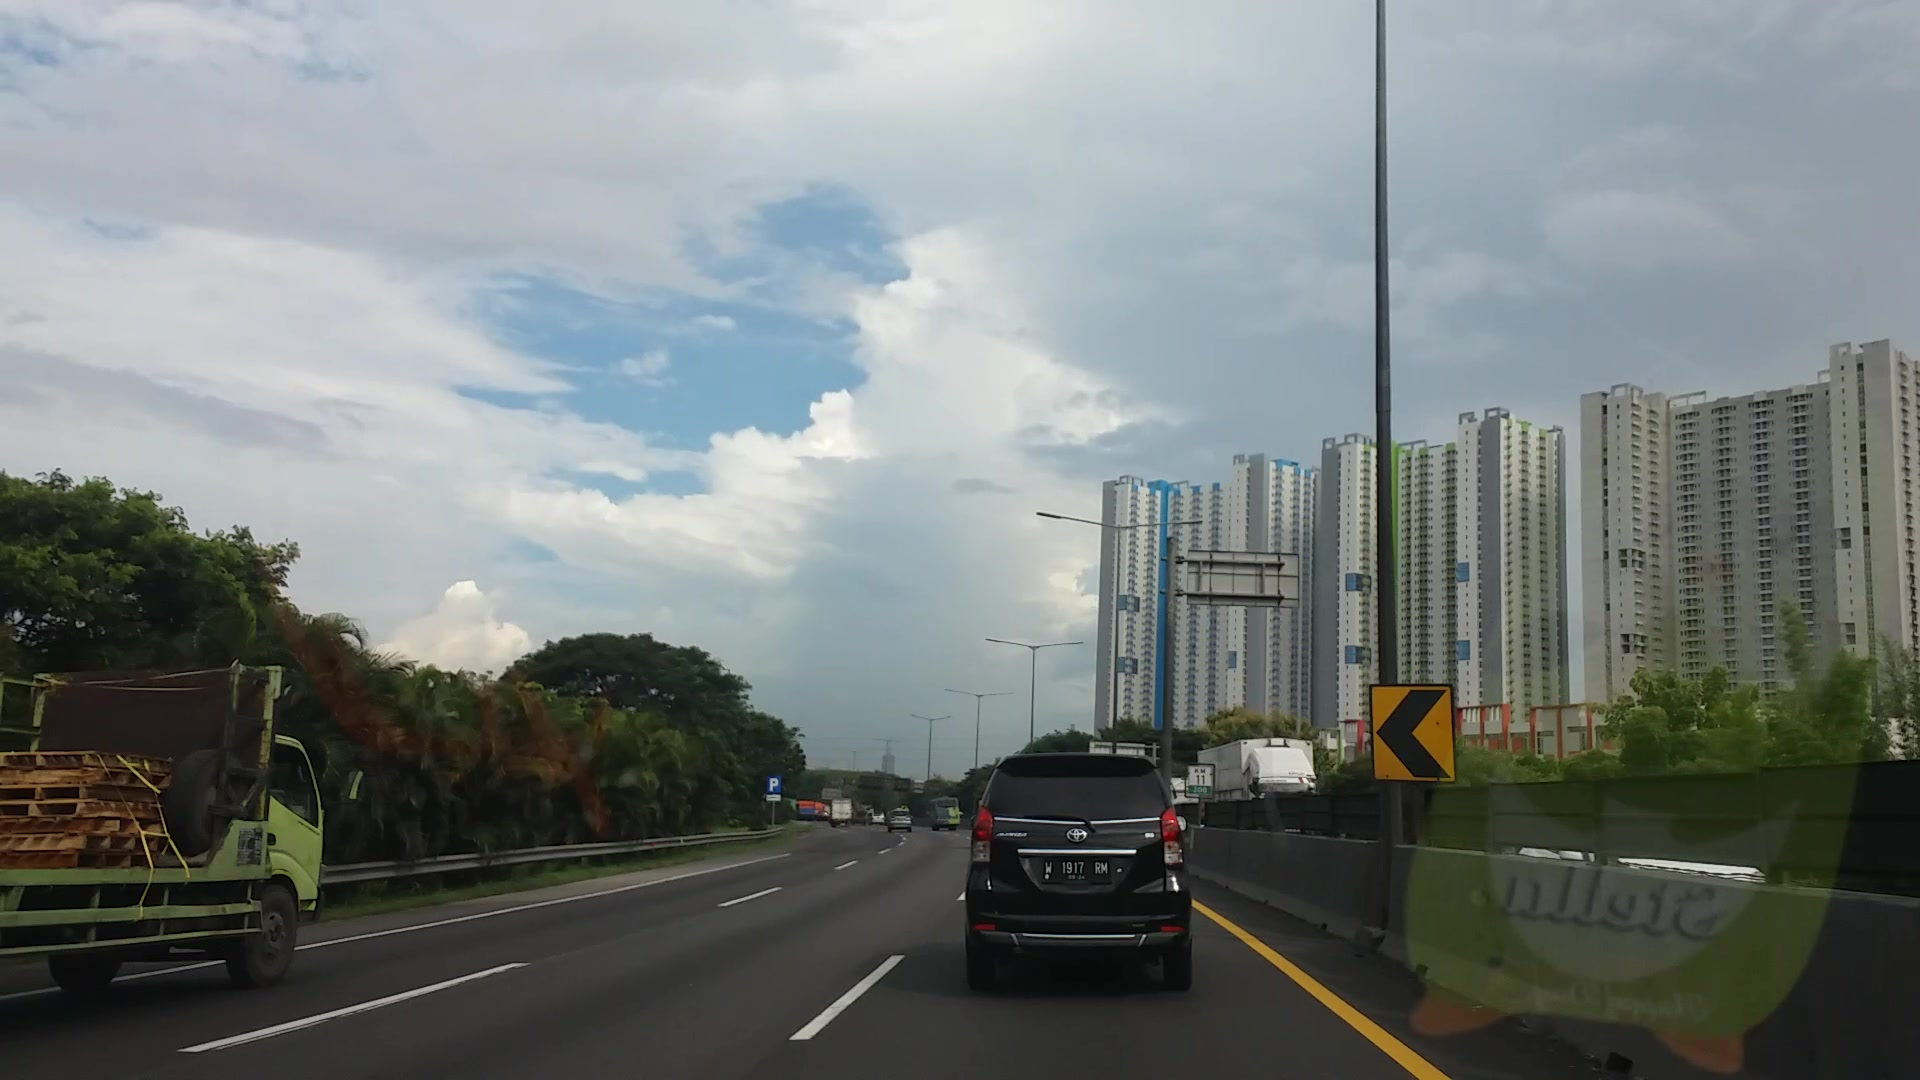plate_positive: (1040, 858, 1110, 884)
